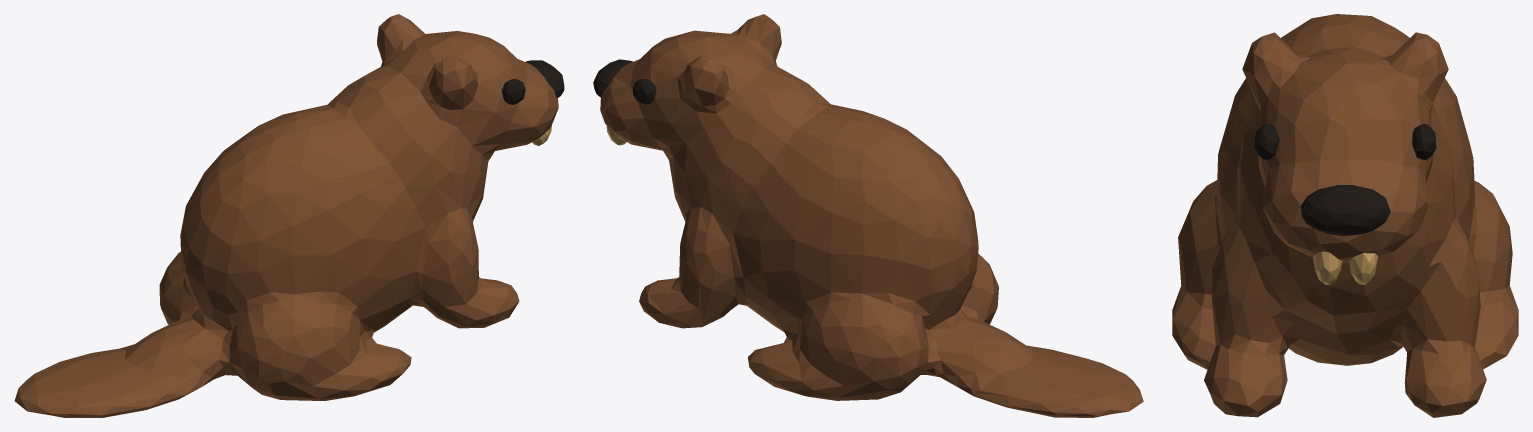
Rendered from NEW_RECOVERY_046_LOD1.glb.
The picture shows the model from 3 angles, left to right: view 1: azimuth 30°, elevation 25°; view 2: azimuth 150°, elevation 25°; view 3: azimuth 270°, elevation 25°; orthographic projection. The views are drawn at different scales.
Parts seen in each view (by area): view 1: Beaver solid sculpt; view 2: Beaver solid sculpt; view 3: Beaver solid sculpt.
Boxes of the visible parts, bbox=[...] form: Beaver solid sculpt: bbox=[14, 14, 564, 417]; Beaver solid sculpt: bbox=[593, 14, 1143, 417]; Beaver solid sculpt: bbox=[1172, 14, 1518, 417].
Bounding box in the file's own units: 2.9 × 1.5 × 1.19.
